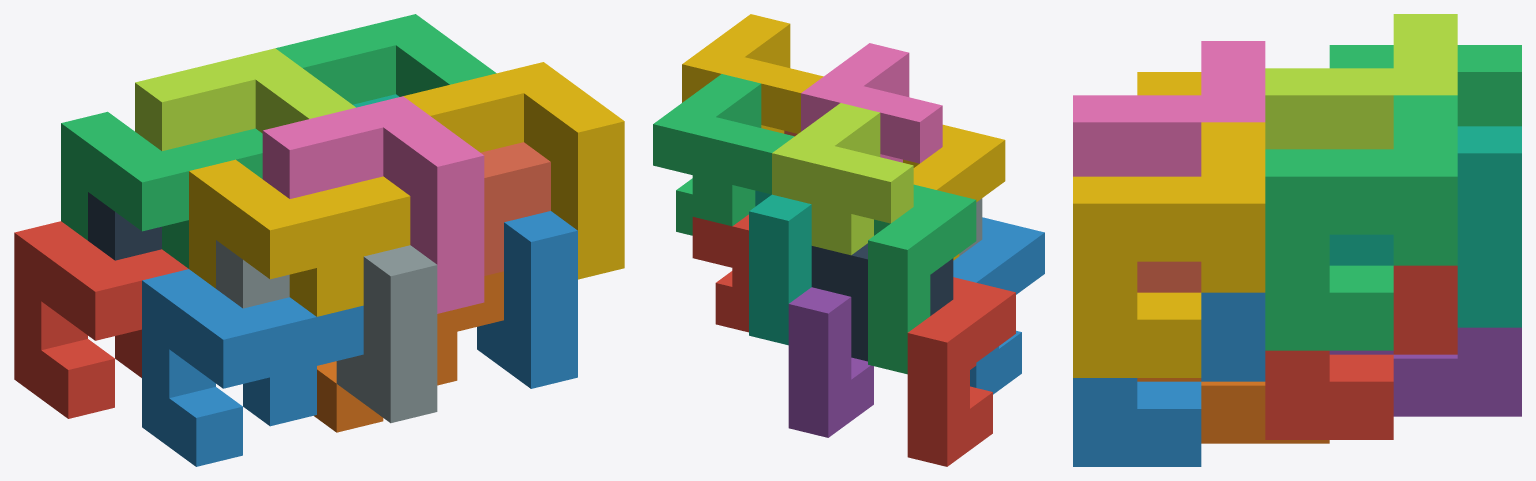
Rendered from tiling.obj.
The picture shows the model from 3 angles, left to right: view 1: azimuth 30°, elevation 25°; view 2: azimuth 150°, elevation 25°; view 3: azimuth 270°, elevation 25°; orthographic projection. The views are drawn at different scales.
Parts seen in each view (by area): view 1: copy_1_domain_2, copy_2_domain_4, copy_1_domain_4, copy_1_domain_1, copy_2_domain_8, copy_2_domain_2, copy_1_domain_3, copy_2_domain_3, copy_2_domain_6, copy_2_domain_7, copy_1_domain_8, copy_1_domain_6 (+1 smaller); view 2: copy_1_domain_1, copy_2_domain_3, copy_2_domain_7, copy_1_domain_3, copy_1_domain_5, copy_2_domain_4, copy_2_domain_8, copy_1_domain_7, copy_1_domain_2, copy_1_domain_4, copy_2_domain_1, copy_2_domain_5; view 3: copy_2_domain_7, copy_2_domain_8, copy_2_domain_5, copy_2_domain_6, copy_2_domain_3, copy_2_domain_4, copy_1_domain_7, copy_1_domain_5, copy_1_domain_3, copy_1_domain_6, copy_1_domain_8, copy_1_domain_4.
Boxes of the visible parts, box(x1,y1,x2,y2) form: copy_1_domain_2: box(142, 269, 363, 466); copy_2_domain_4: box(262, 96, 484, 313); copy_1_domain_4: box(189, 159, 410, 316); copy_1_domain_1: box(14, 221, 188, 418); copy_2_domain_8: box(403, 62, 624, 279); copy_2_domain_2: box(216, 240, 437, 423); copy_1_domain_3: box(61, 111, 262, 268); copy_2_domain_3: box(135, 48, 355, 150); copy_2_domain_6: box(477, 211, 577, 388); copy_2_domain_7: box(275, 14, 496, 104); copy_1_domain_8: box(481, 142, 550, 275); copy_1_domain_6: box(314, 271, 503, 432); copy_1_domain_1: box(907, 277, 1015, 466); copy_2_domain_3: box(772, 103, 913, 255); copy_2_domain_7: box(653, 74, 794, 235); copy_1_domain_3: box(868, 184, 976, 374); copy_1_domain_5: box(788, 287, 873, 437); copy_2_domain_4: box(801, 43, 942, 163); copy_2_domain_8: box(682, 14, 823, 133); copy_1_domain_7: box(749, 190, 811, 345); copy_1_domain_2: box(953, 217, 1044, 394); copy_1_domain_4: box(903, 124, 1005, 260); copy_2_domain_1: box(811, 243, 953, 361); copy_2_domain_5: box(692, 214, 748, 332); copy_2_domain_7: box(1265, 95, 1457, 350); copy_2_domain_8: box(1073, 122, 1265, 377); copy_2_domain_5: box(1265, 265, 1457, 439); copy_2_domain_6: box(1073, 292, 1265, 466); copy_2_domain_3: box(1265, 14, 1457, 149); copy_2_domain_4: box(1073, 41, 1265, 176); copy_1_domain_7: box(1329, 126, 1521, 327); copy_1_domain_5: box(1329, 327, 1521, 416); copy_1_domain_3: box(1329, 45, 1521, 126); copy_1_domain_6: box(1137, 378, 1329, 443); copy_1_domain_8: box(1137, 261, 1201, 292); copy_1_domain_4: box(1137, 72, 1201, 95).
Size of the model in its own units: 9 by 6 by 7.
